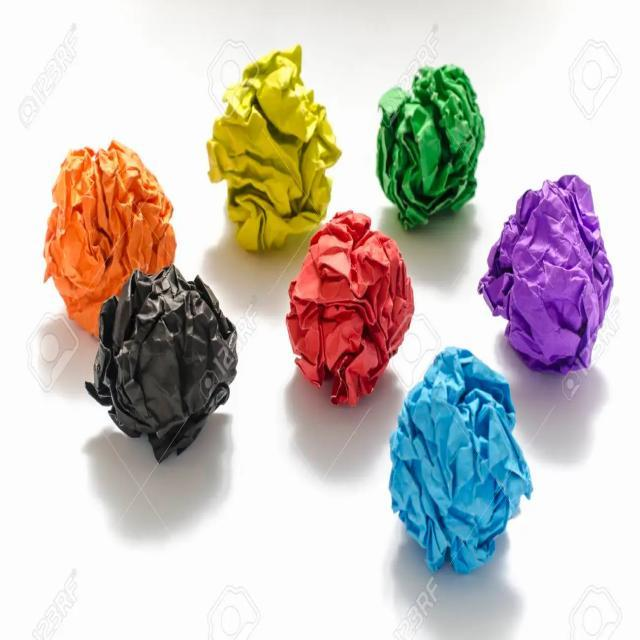Paper: (387, 348, 534, 578), (85, 264, 238, 466), (206, 46, 341, 255), (479, 175, 615, 375), (44, 140, 177, 336), (284, 212, 416, 408), (376, 65, 485, 232)
